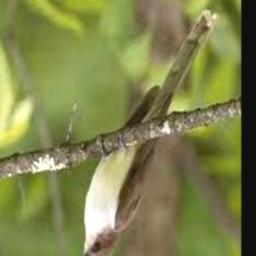Cuckoo: (73, 10, 217, 256)
